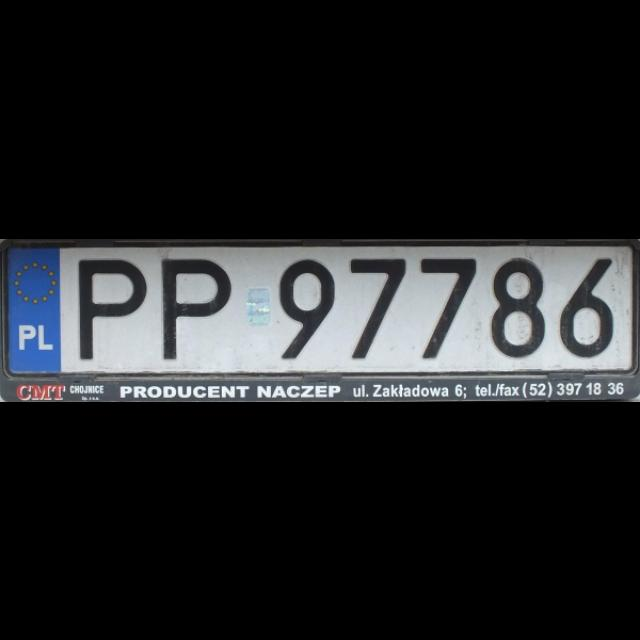pl_license_plate: (6, 247, 632, 367)
